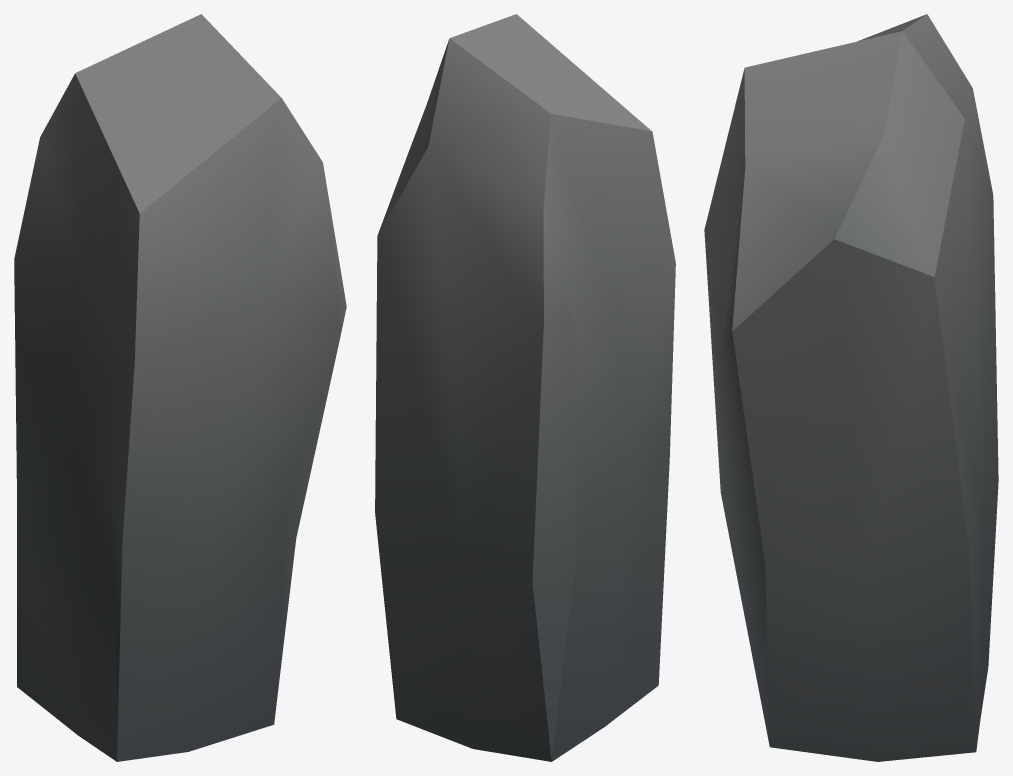
Rendered from Rock_Medium_A.fbx.
3 renders of one model, left to right at view 1: azimuth 30°, elevation 25°; view 2: azimuth 150°, elevation 25°; view 3: azimuth 270°, elevation 25°, orthographic. The views are drawn at different scales.
Visible parts, largest first — view 1: Rock_Medium_A; view 2: Rock_Medium_A; view 3: Rock_Medium_A.
Part boxes in pixels (left/top/right/bottom): Rock_Medium_A: left=14, top=14, right=346, bottom=761; Rock_Medium_A: left=375, top=14, right=675, bottom=761; Rock_Medium_A: left=704, top=14, right=998, bottom=761.
Size of the model in its own units: 94.38 by 93.14 by 255.
1 material, 1 textured.
